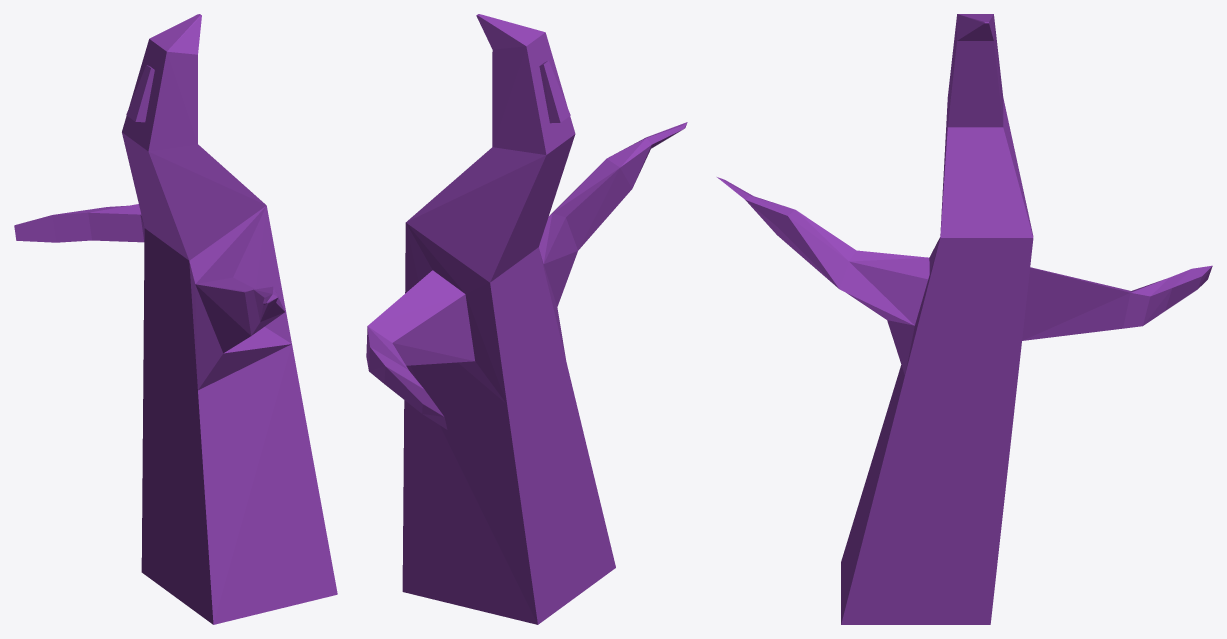
The model's file is MassiveBullet_Totem_1.dae.
3 views of the same model, side by side, from view 1: azimuth 30°, elevation 25°; view 2: azimuth 150°, elevation 25°; view 3: azimuth 270°, elevation 25° (orthographic). The views are drawn at different scales.
Visible parts, largest first — view 1: Cube; view 2: Cube; view 3: Cube.
Part boxes in pixels (<box>): Cube: <box>14,14,337,624</box>; Cube: <box>366,14,687,624</box>; Cube: <box>717,14,1212,624</box>.
Size of the model in its own units: 9.36 by 26.57 by 33.53.
